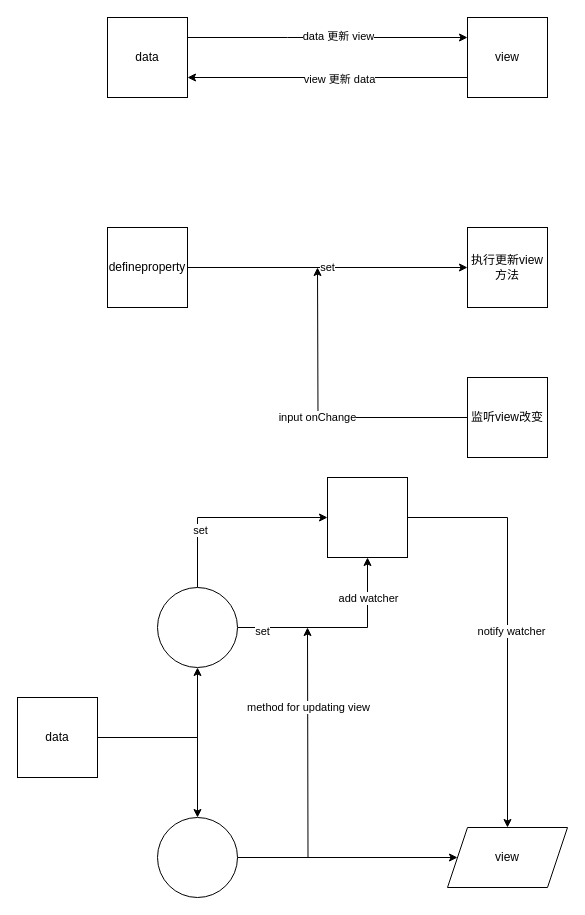
Some shapes in this 585 by 915 pixel diagram are drawn without their labels. Each missing label, with the centre of its shape:
"compile" goes at point (197, 857).
"dep" goes at point (367, 517).
"proxy" goes at point (197, 627).
